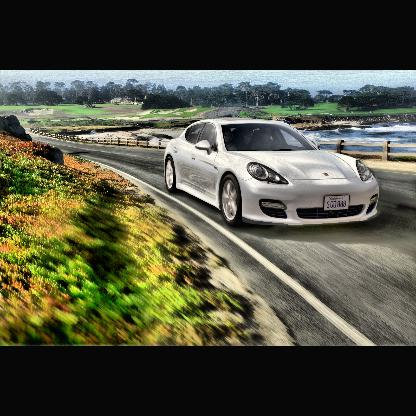Porsche Panamera Sedan 2012: (163, 116, 381, 230)
